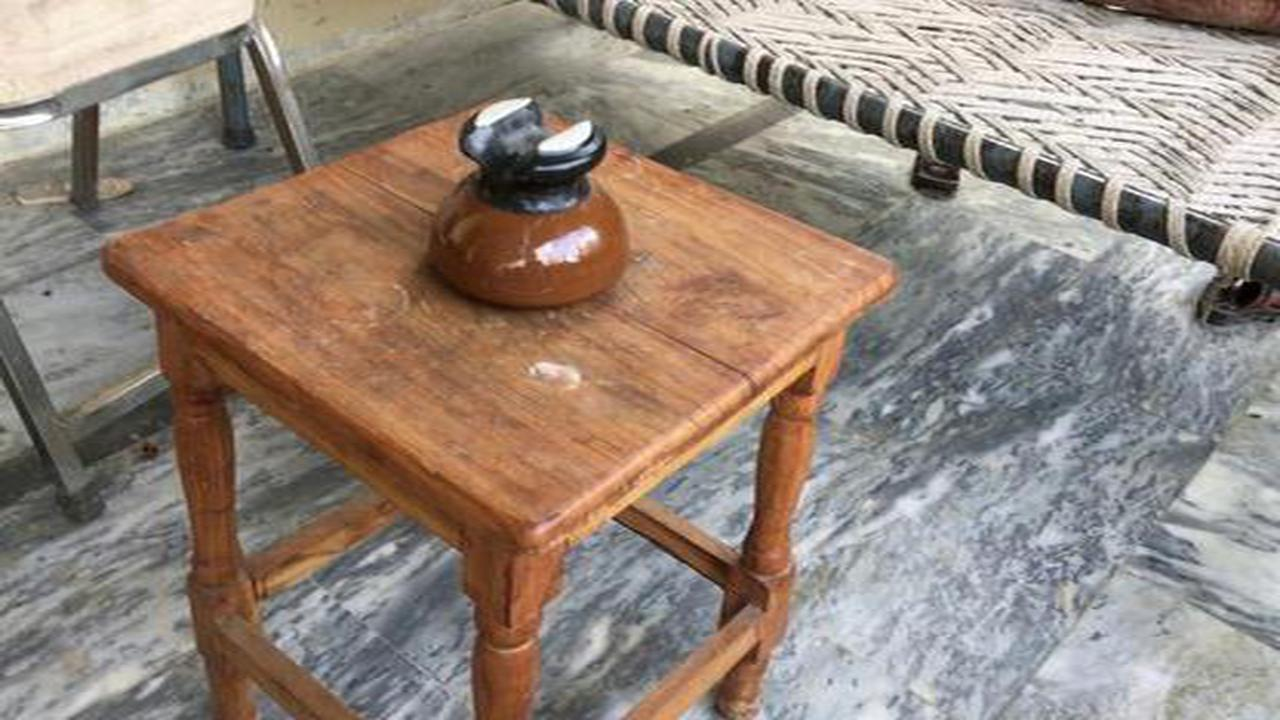insulator_pin: (413, 80, 641, 324)
